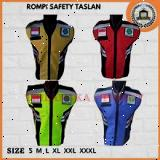Vest: (25, 86, 76, 146), (25, 19, 74, 80), (95, 87, 141, 147), (92, 21, 140, 78)
